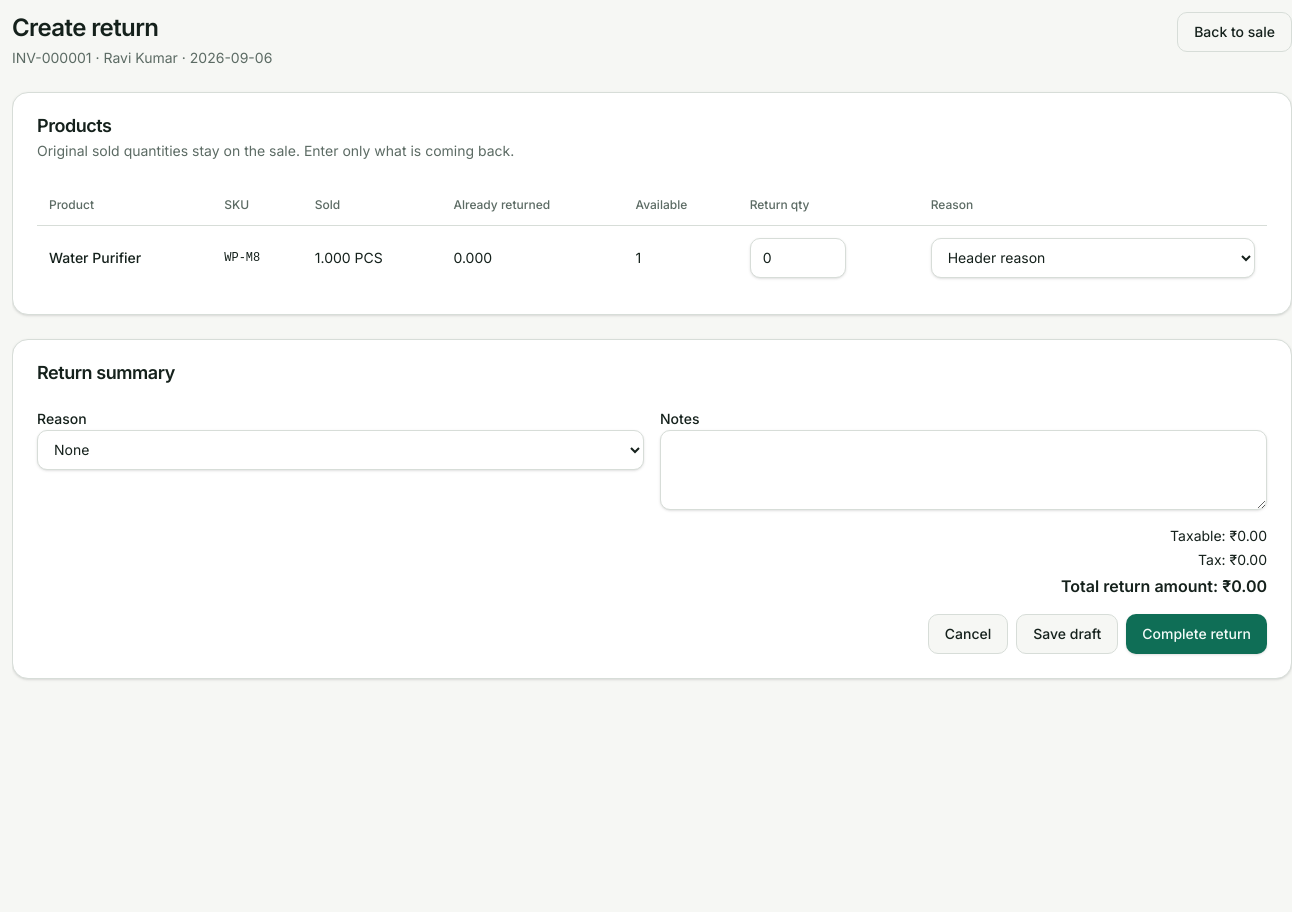
Test: returns UI › validates return quantity against available to return
Expected: the text "Water Purifier" is shown, [37,225,212,290]
Replace the text in the number field with "2": coordinates (798, 258) [750,238,846,278]
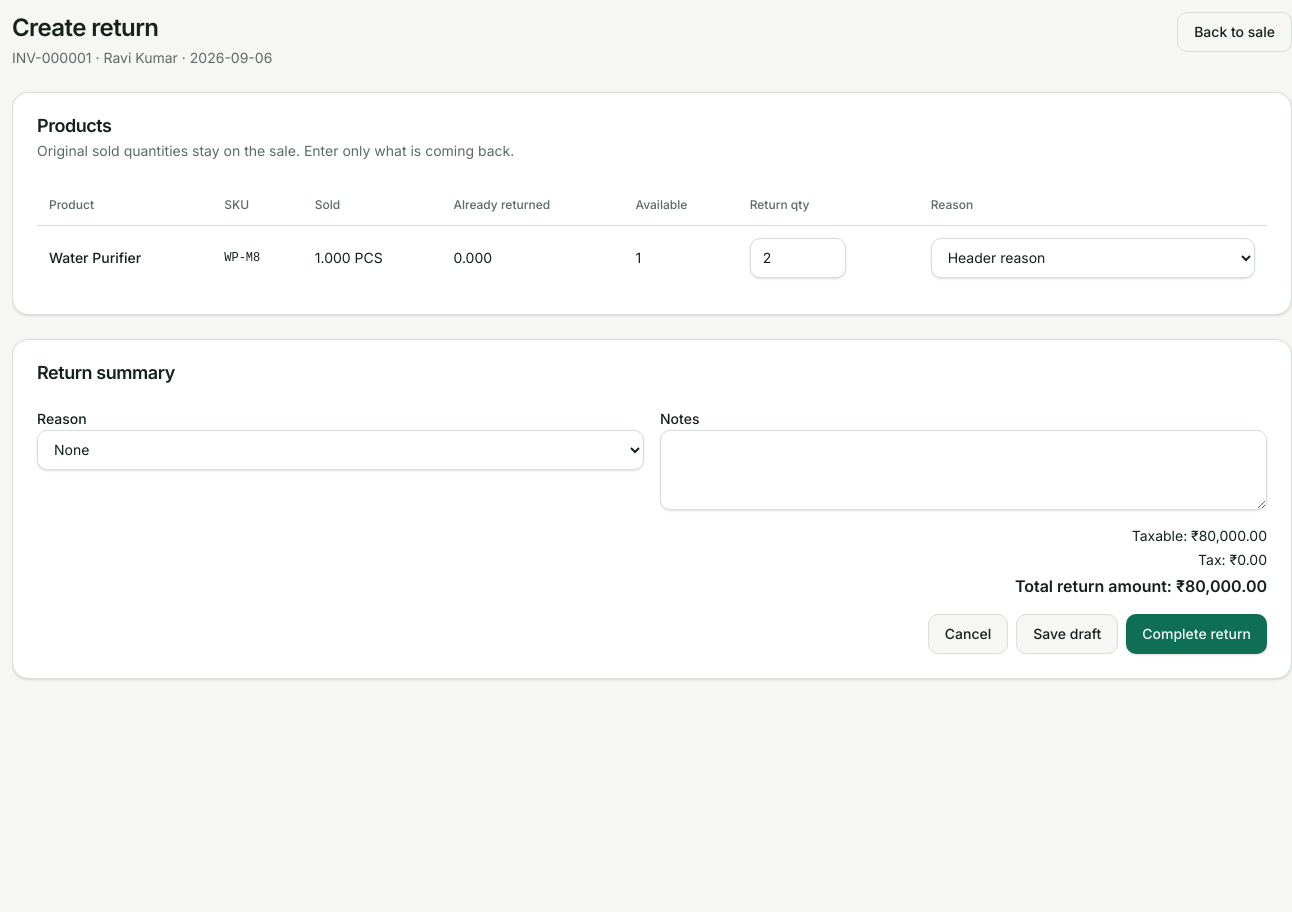
Click the button "Complete return": coordinates (1197, 634) [1126,614,1267,654]
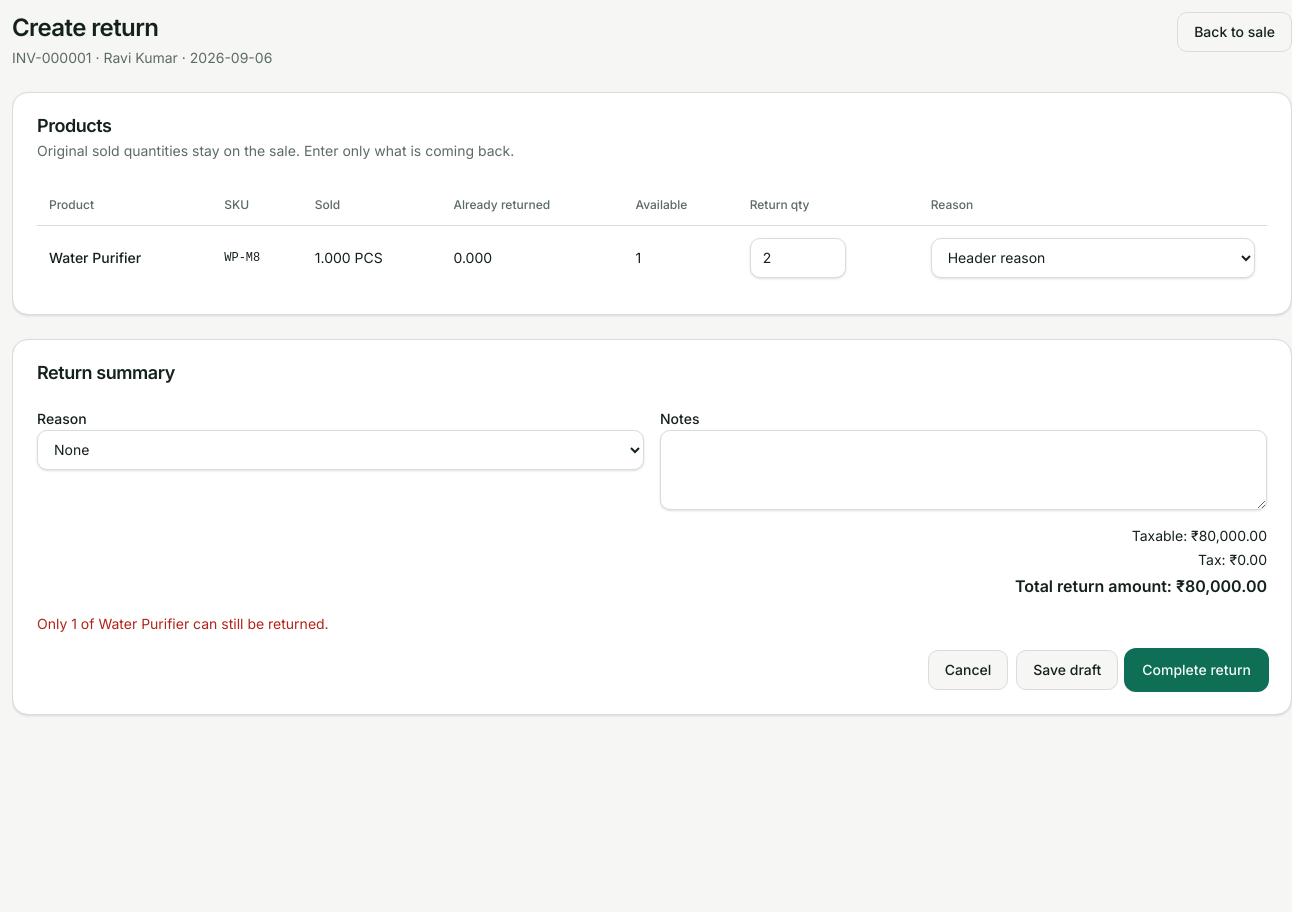
Now the text "Only 1 of Water Purifier can still be returned." is shown, box [37,614,329,632]
